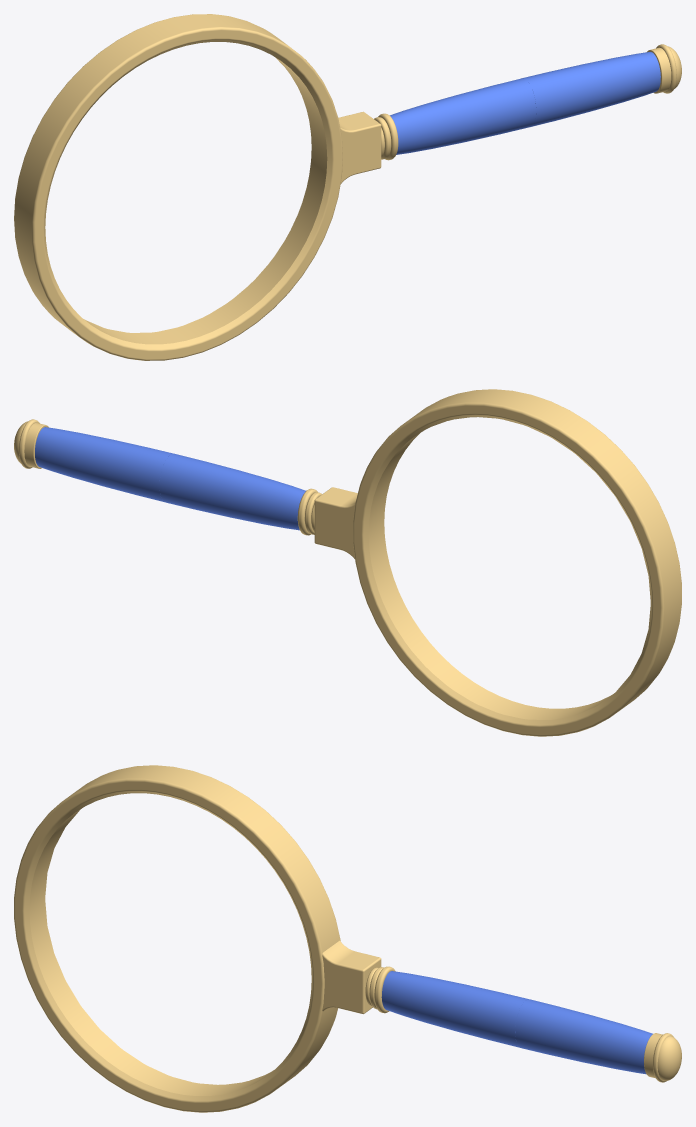
Rendered from Loupe_import.fbx.
3 renders of one model, top to bottom at view 1: azimuth 30°, elevation 25°; view 2: azimuth 150°, elevation 25°; view 3: azimuth 330°, elevation 25°, orthographic.
Visible parts, largest first — view 1: Loupe1; view 2: Loupe1; view 3: Loupe1.
Boxes of the visible parts, bbox=[...] form: Loupe1: bbox=[14, 14, 681, 360]; Loupe1: bbox=[14, 389, 681, 736]; Loupe1: bbox=[14, 765, 681, 1112].
Bounding box in the file's own units: 9.5 × 4.5 × 0.5338.
